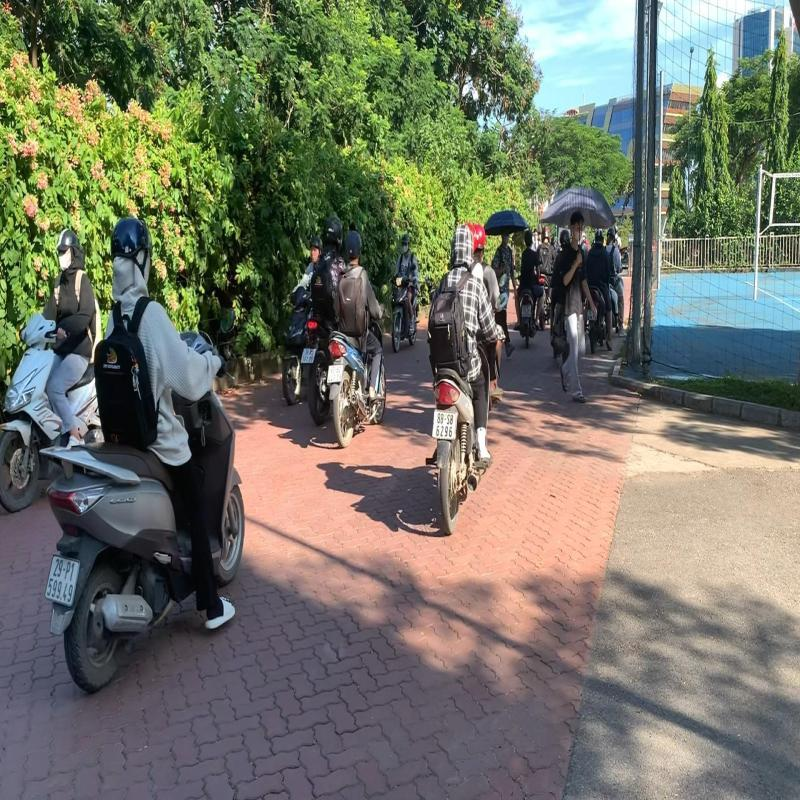helmet: (109, 216, 155, 274)
licenseplate: (43, 550, 84, 611)
motorcyclist: (31, 210, 252, 696)
